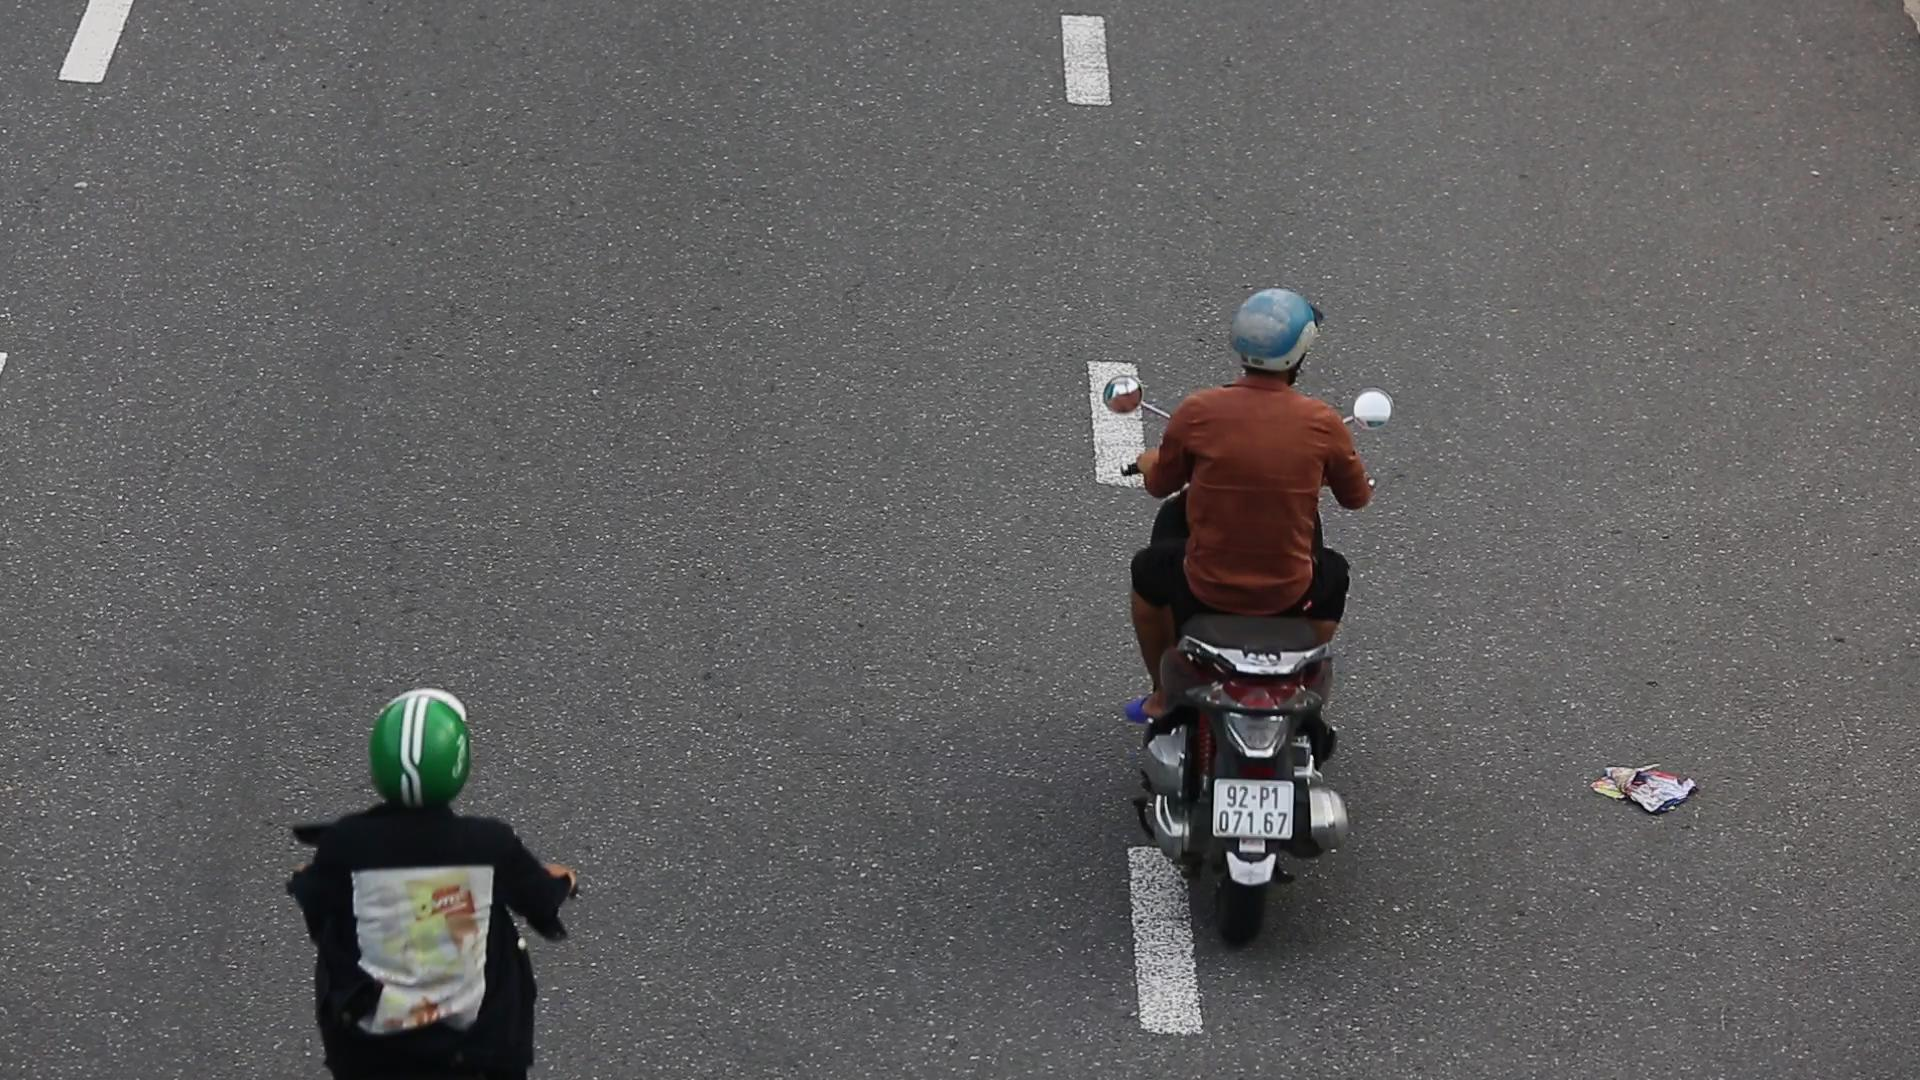motobike: (1091, 258, 1393, 945)
